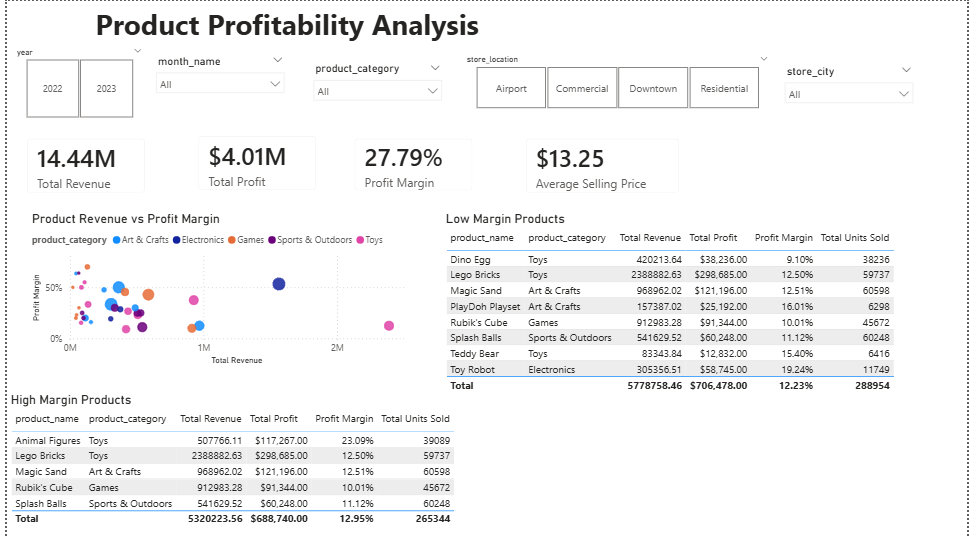

The page's visual inventory and layout, read from the dashboard file:
{"tool":"powerbi","page":{"name":"Product Profitability Analysis","canvas":[1280,720],"ordinal":2},"visuals":[{"type":"scatterChart","title":"Product Revenue vs Profit Margin","fields":{"X":["fact_sales.Total Revenue"],"Y":["fact_sales.Profit Margin"],"Size":["fact_sales.Total Units Sold"],"Series":["dim_products.product_category"],"Category":["dim_products.product_name"]},"box":[28.3,280,515,210],"z":0},{"type":"textbox","box":[10,0,841.7,76.7],"z":1000},{"type":"slicer","fields":{"Values":["dim_date.year"]},"box":[-0.7,56,191.7,105],"z":2000},{"type":"slicer","fields":{"Values":["dim_date.month_name"]},"box":[187.7,66.3,191.7,95],"z":3000},{"type":"slicer","fields":{"Values":["dim_products.product_category"]},"box":[397.7,76.3,191.7,63.3],"z":4000},{"type":"slicer","fields":{"Values":["dim_stores.store_city"]},"box":[1026.7,79.7,191.7,81.7],"z":5000},{"type":"slicer","fields":{"Values":["dim_stores.store_location"]},"box":[600,66.3,426.7,83.3],"z":6000},{"type":"cardVisual","fields":{"Data":["fact_sales.Total Revenue"]},"box":[10,166.7,191.7,106.7],"z":7000},{"type":"cardVisual","fields":{"Data":["fact_sales.Total Profit"]},"box":[238.7,164,191.7,106.7],"z":8000},{"type":"cardVisual","fields":{"Data":["fact_sales.Profit Margin"]},"box":[447,167.3,191.7,103.3],"z":9000},{"type":"cardVisual","fields":{"Data":["fact_sales.Average Selling Price"]},"box":[675.3,167.3,238.3,106.7],"z":10000},{"type":"tableEx","title":"Low Margin Products","fields":{"Values":["dim_products.product_name","dim_products.product_category","fact_sales.Total Revenue","fact_sales.Total Profit","fact_sales.Profit Margin","fact_sales.Total Units Sold"]},"box":[580,280,700,255],"z":11000},{"type":"tableEx","title":"High Margin Products","fields":{"Values":["dim_products.product_name","dim_products.product_category","fact_sales.Total Revenue","fact_sales.Total Profit","fact_sales.Profit Margin","fact_sales.Total Units Sold"]},"box":[0,521.7,675,186.7],"z":12000}]}

Visuals, with their boxes in screenshot pixels (x1, y1, x2, y2), scaled from the page's 1280x720 canvas onto the 971x536 screenshot:
"Product Revenue vs Profit Margin" scatterChart: box=[21, 208, 412, 365]
textbox: box=[8, 0, 646, 57]
slicer - dim_date.year: box=[0, 42, 145, 120]
slicer - dim_date.month_name: box=[142, 49, 288, 120]
slicer - dim_products.product_category: box=[302, 57, 447, 104]
slicer - dim_stores.store_city: box=[779, 59, 924, 120]
slicer - dim_stores.store_location: box=[455, 49, 779, 111]
cardVisual - fact_sales.Total Revenue: box=[8, 124, 153, 204]
cardVisual - fact_sales.Total Profit: box=[181, 122, 326, 202]
cardVisual - fact_sales.Profit Margin: box=[339, 125, 485, 201]
cardVisual - fact_sales.Average Selling Price: box=[512, 125, 693, 204]
"Low Margin Products" tableEx: box=[440, 208, 970, 398]
"High Margin Products" tableEx: box=[0, 388, 512, 527]
